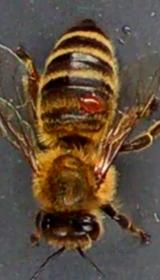varroa_mite: (74, 88, 106, 120)
